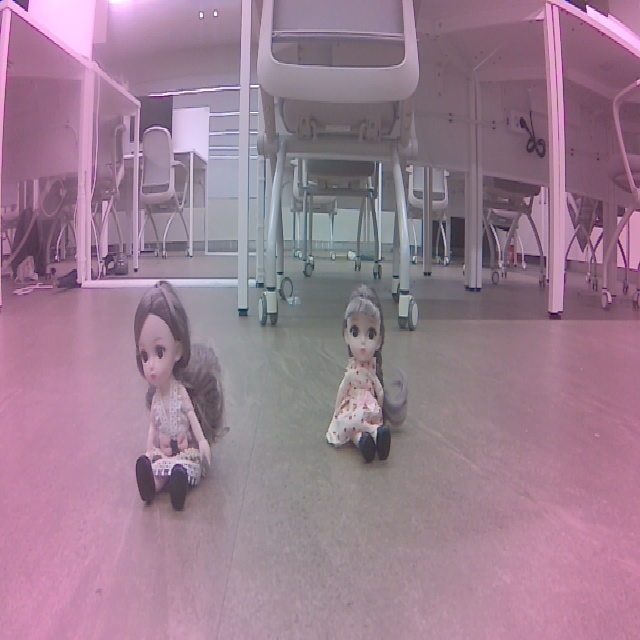장애물: (144, 266, 260, 464), (403, 261, 508, 437)
